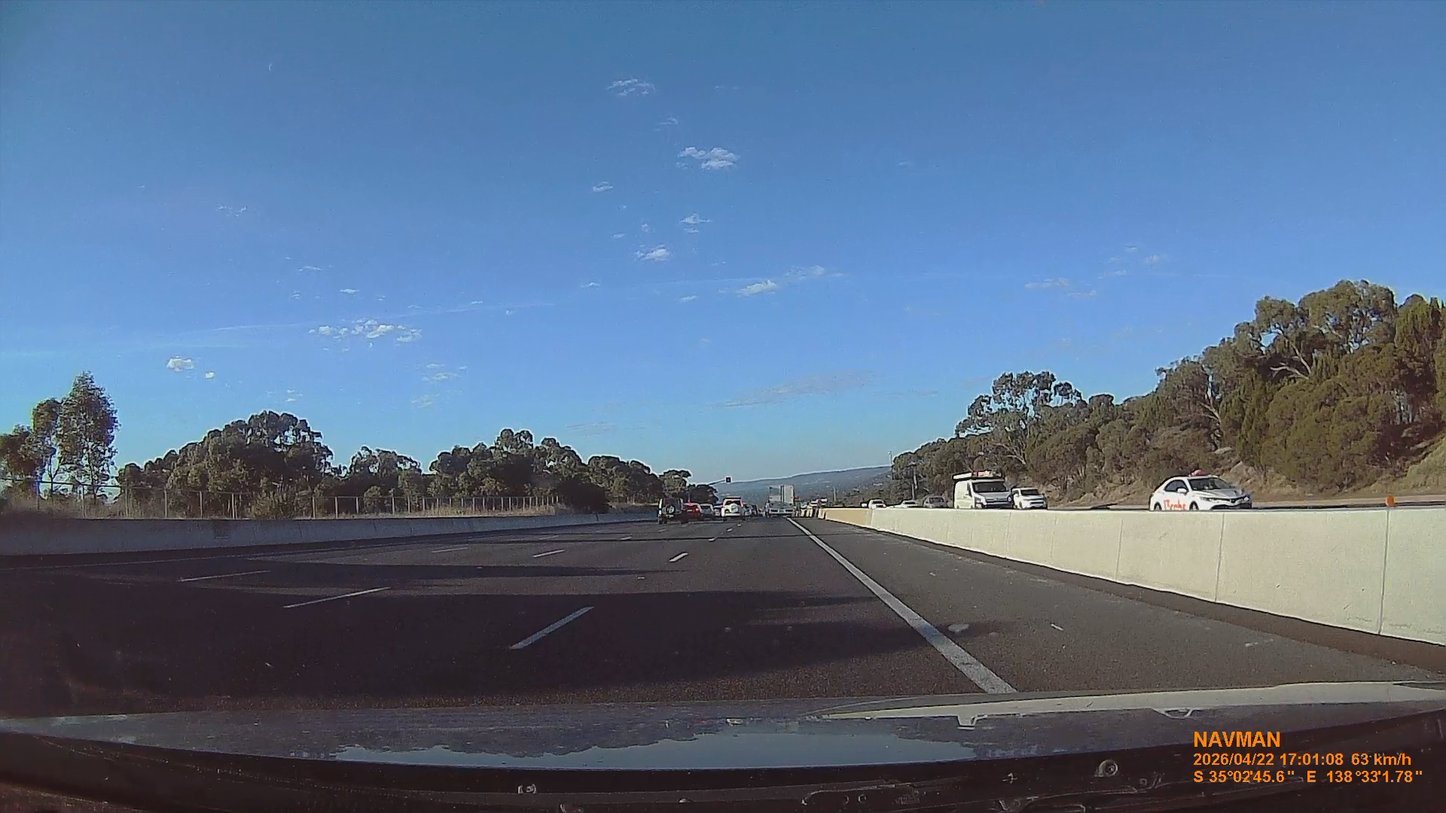fences: (6, 483, 565, 519)
road barriers: (822, 508, 1445, 645), (0, 512, 633, 557), (798, 507, 888, 531)
